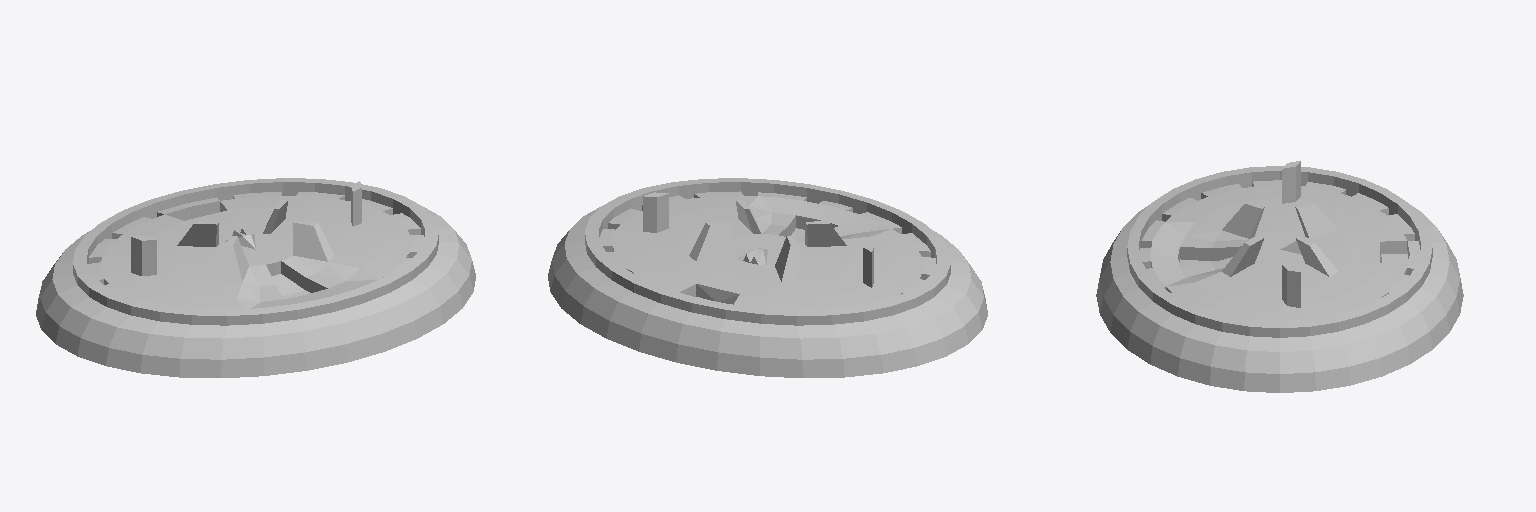
File: map2.obj
The picture shows the model from 3 angles: view 1: azimuth 30°, elevation 25°; view 2: azimuth 150°, elevation 25°; view 3: azimuth 270°, elevation 25°; orthographic projection.
Bounding box in the file's own units: 61.85 × 11.61 × 49.09.